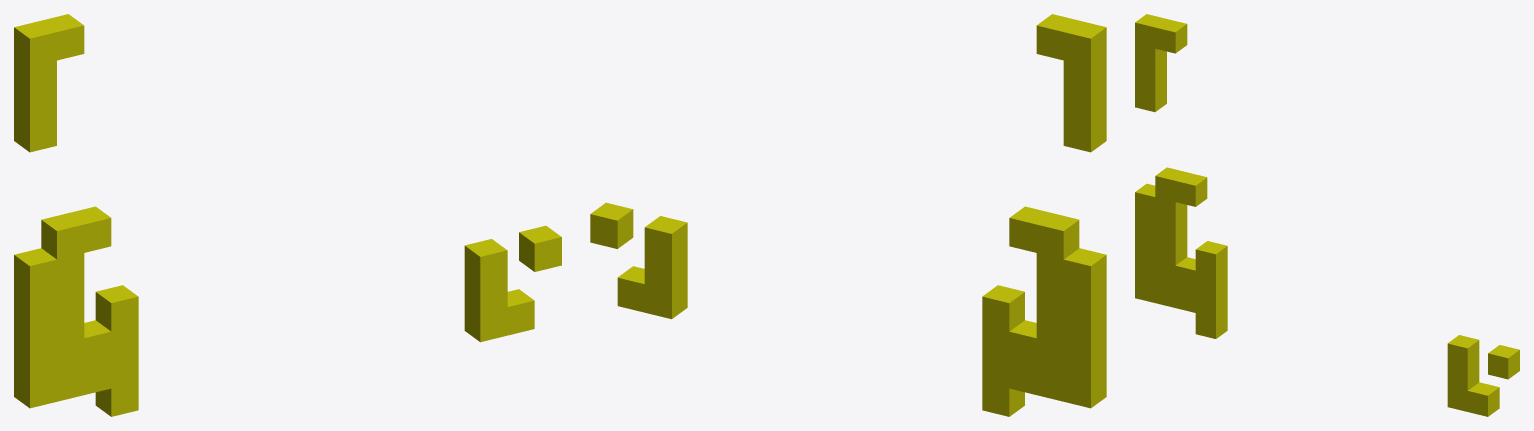
The model's file is goodnight-moon-22-fire3alt.obj.
3 renders of one model, left to right at view 1: azimuth 30°, elevation 25°; view 2: azimuth 150°, elevation 25°; view 3: azimuth 330°, elevation 25°, orthographic. The views are drawn at different scales.
Visible parts, largest first — view 1: fire3alt; view 2: fire3alt; view 3: fire3alt.
Boxes of the visible parts, <box> form: fire3alt: <box>14,14,561,416</box>; fire3alt: <box>590,14,1106,416</box>; fire3alt: <box>1135,14,1519,416</box>.
Bounding box in the file's own units: 1.9 × 1.4 × 0.2.
Materials: 1 (1 with a texture image).
